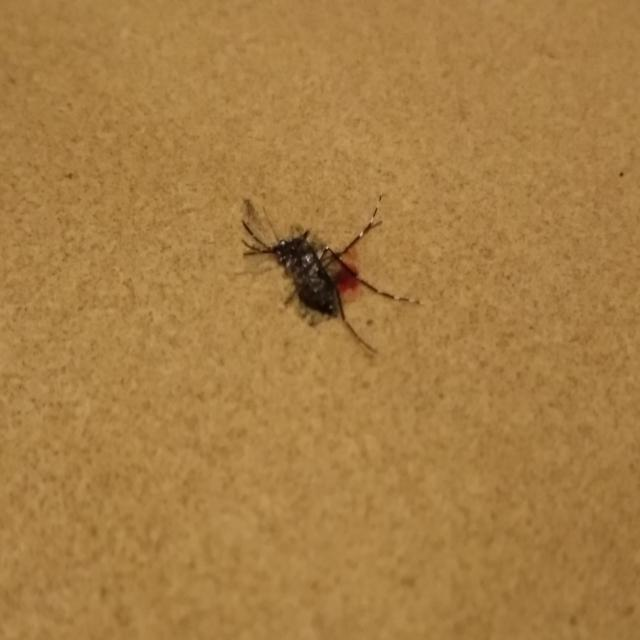albopictus: (239, 175, 428, 369)
